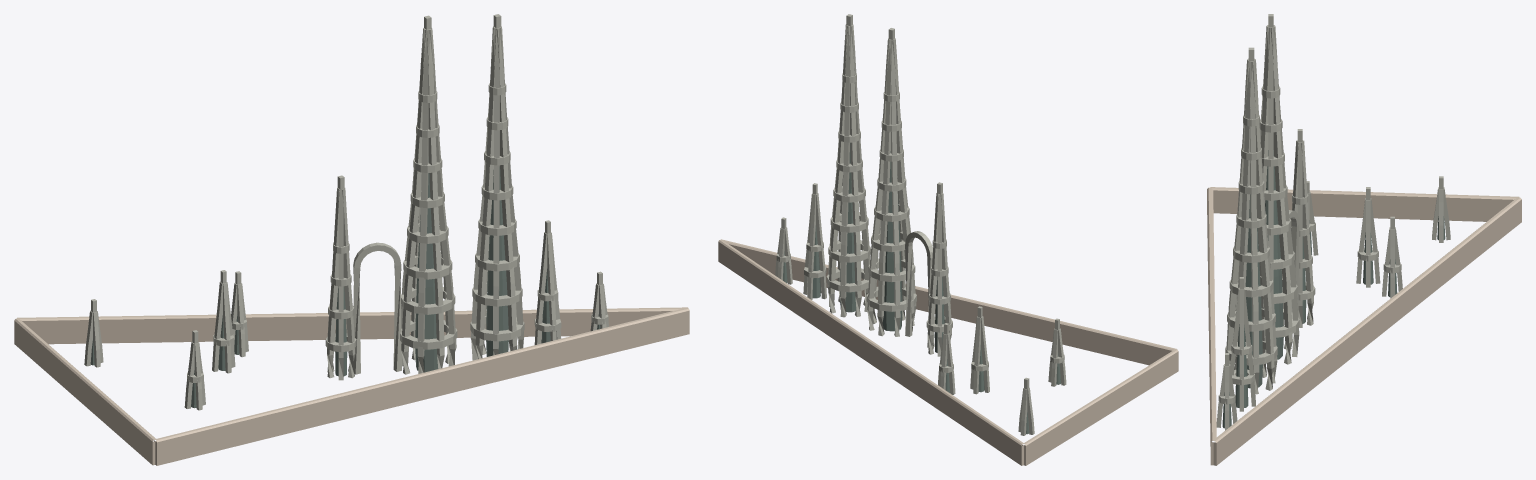
Rendered from la-watts-towers.glb.
3 renders of one model, left to right at view 1: azimuth 30°, elevation 25°; view 2: azimuth 150°, elevation 25°; view 3: azimuth 270°, elevation 25°, orthographic. The views are drawn at different scales.
Parts seen in each view (by area): view 1: Watts Towers; view 2: Watts Towers; view 3: Watts Towers.
Part boxes in pixels (x1,y1,x2,y2): Watts Towers: [14, 14, 689, 465]; Watts Towers: [718, 14, 1178, 465]; Watts Towers: [1207, 14, 1521, 465].
Bounding box in the file's own units: 49.67 × 30.92 × 25.87.
